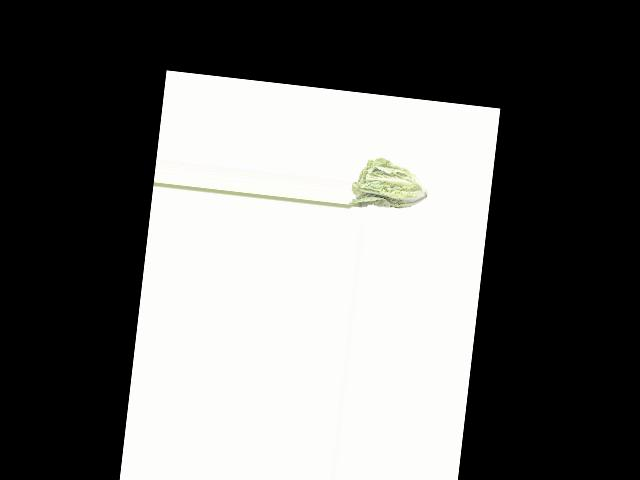lettuce: (349, 152, 429, 214)
